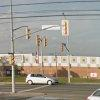Traffic light: (21, 23, 49, 57)
